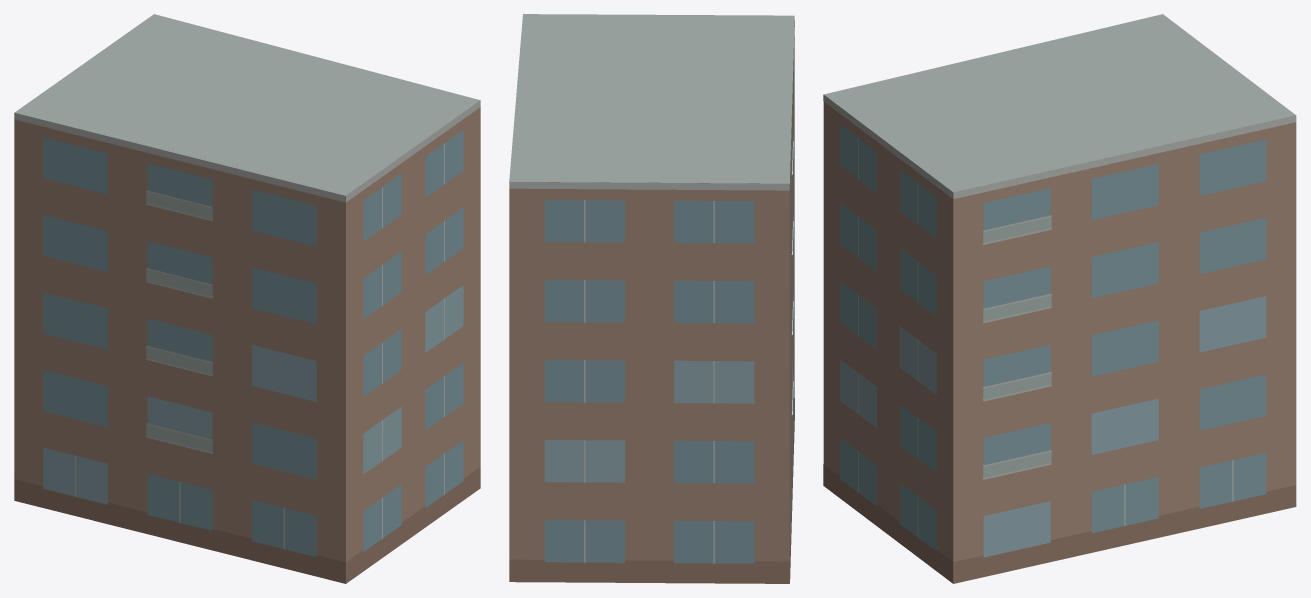
The model's file is survey-upis-32558865.glb.
3 views of the same model, side by side, from view 1: azimuth 30°, elevation 25°; view 2: azimuth 150°, elevation 25°; view 3: azimuth 270°, elevation 25° (orthographic). The views are drawn at different scales.
Parts seen in each view (by area): view 1: survey-upis-32558865.tmp; view 2: survey-upis-32558865.tmp; view 3: survey-upis-32558865.tmp.
Part boxes in pixels (x1,y1,x2,y2): survey-upis-32558865.tmp: (14,14,480,583); survey-upis-32558865.tmp: (509,14,794,583); survey-upis-32558865.tmp: (823,14,1296,583).
Size of the model in its own units: 13.8 by 14.1 by 15.44.
